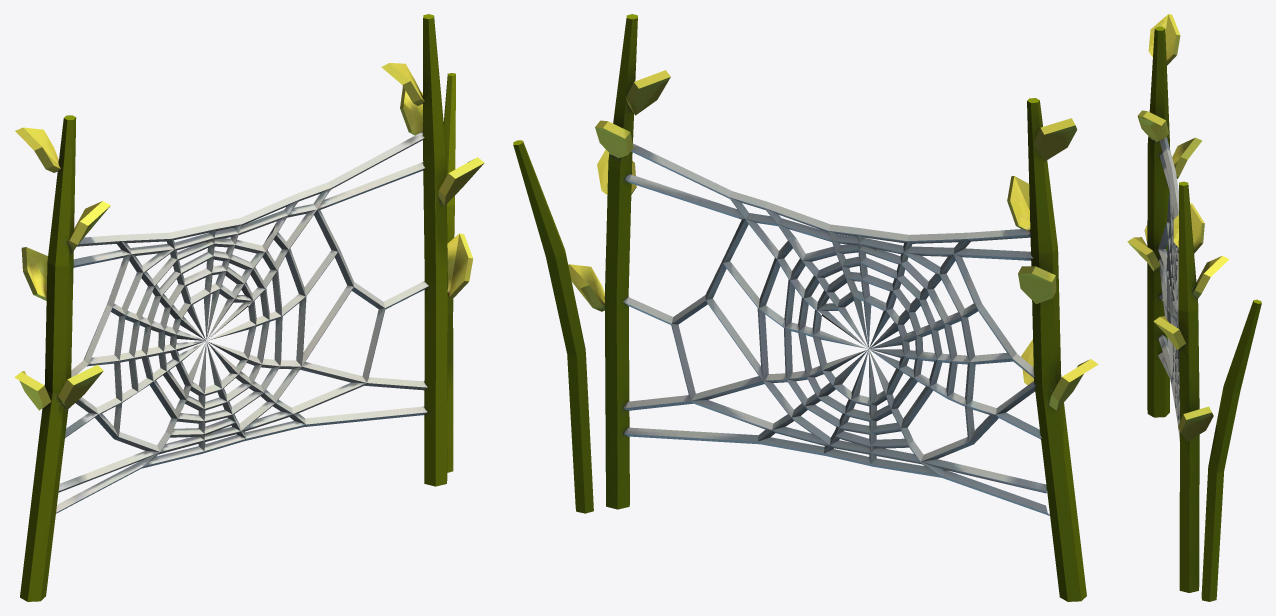
The model's file is spider-web-google_cM0NzColM_0.glb.
3 views of the same model, side by side, from view 1: azimuth 30°, elevation 25°; view 2: azimuth 150°, elevation 25°; view 3: azimuth 270°, elevation 25° (orthographic). The views are drawn at different scales.
Parts seen in each view (by area): view 1: Spider_web; view 2: Spider_web; view 3: Spider_web.
Part boxes in pixels (<box>): Spider_web: <box>14,14,484,601</box>; Spider_web: <box>513,14,1098,601</box>; Spider_web: <box>1127,14,1261,601</box>.
Bounding box in the file's own units: 2.29 × 2.05 × 0.6235.
Materials: 1 (1 with a texture image).
